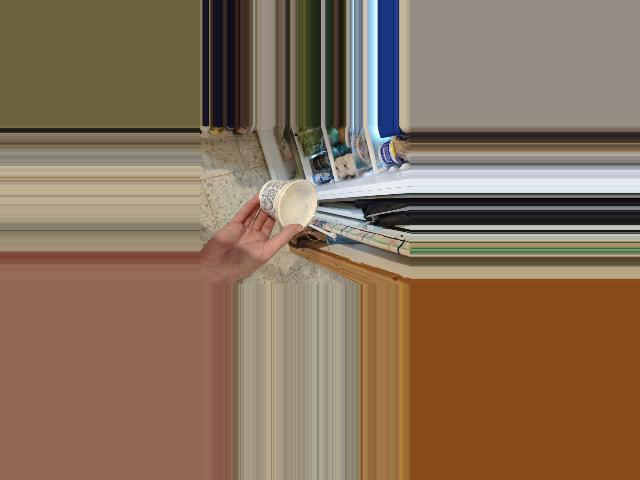cotage: (261, 182, 309, 230)
